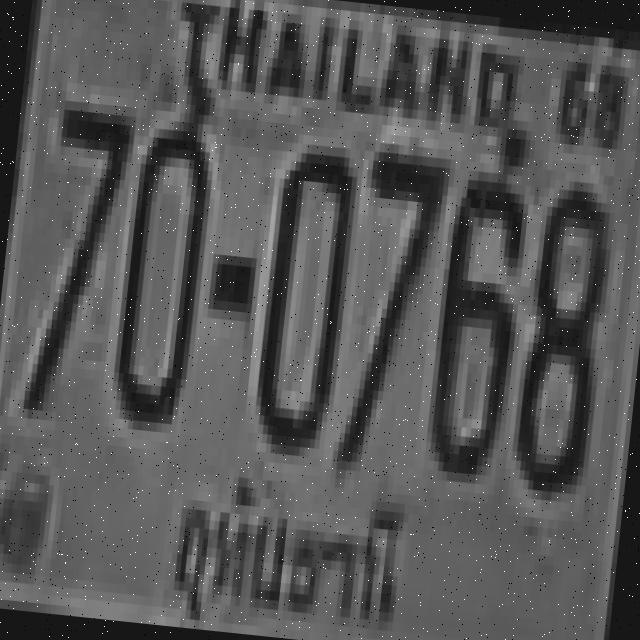0: (247, 132, 356, 449), (109, 108, 213, 425)
6: (423, 159, 527, 476)
7: (332, 140, 447, 468), (23, 95, 132, 412)
8: (508, 173, 612, 490)
UthaiThani: (156, 463, 419, 640)
